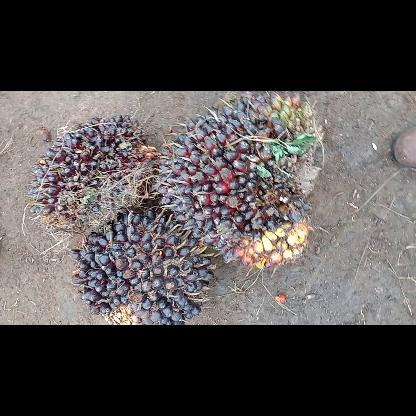TBS mentah: (150, 90, 327, 272), (67, 208, 220, 324), (27, 112, 161, 236)
